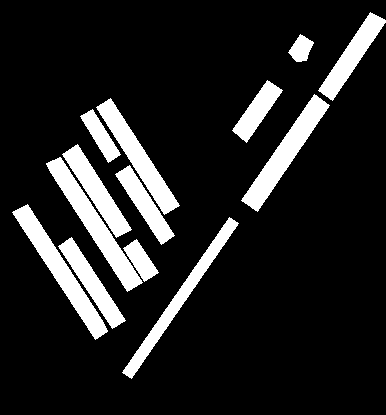parkingspot: (122, 217, 238, 378), (46, 157, 142, 291), (12, 204, 107, 339), (241, 94, 329, 211), (96, 98, 179, 214), (62, 144, 131, 237), (58, 237, 125, 328), (318, 12, 386, 100), (115, 165, 174, 244), (232, 80, 282, 142), (80, 109, 120, 162), (123, 239, 158, 281), (288, 34, 313, 61)
